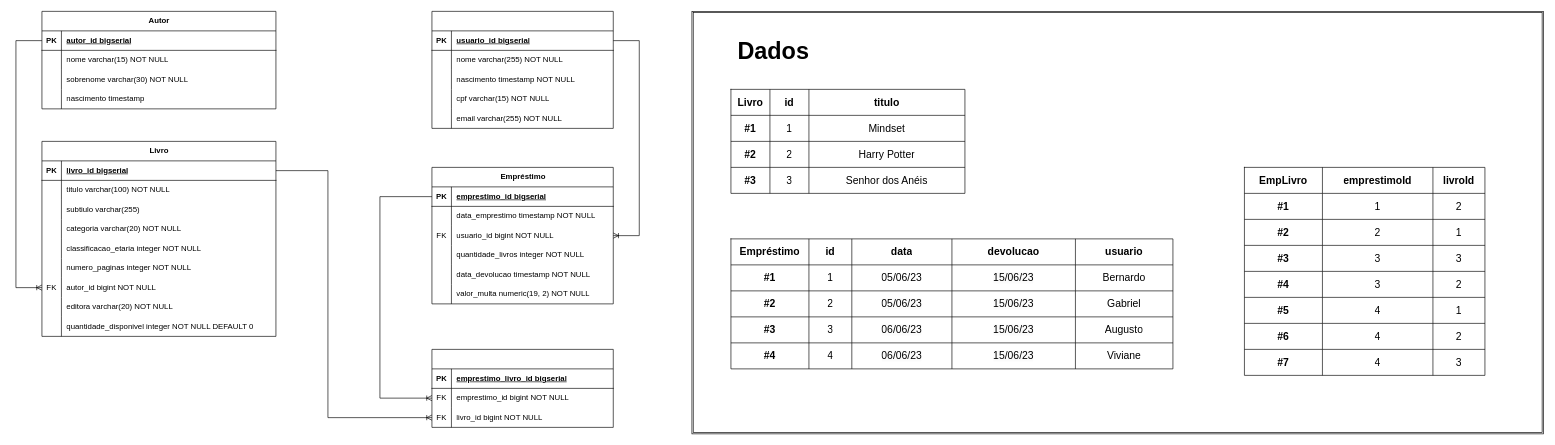
Some shapes in this 1555 by 445 pixel diagram are drawn without their labels. The shapes that lost their labels are listed below. From the top down, each one's box as (x1, y1, x2, y2) in pixels, then its label:
(431, 11, 613, 128): Usuário
(431, 349, 613, 427): Empréstimo_Livro
